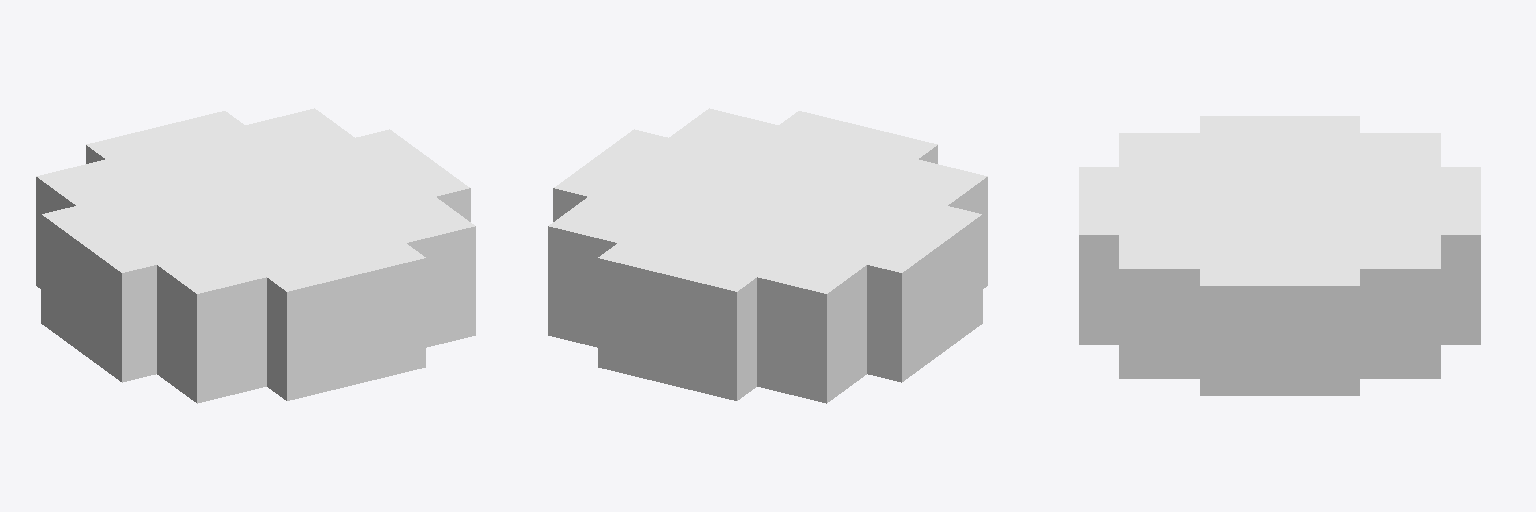
The model's file is treeTrunk.obj.
3 views of the same model, side by side, from view 1: azimuth 30°, elevation 25°; view 2: azimuth 150°, elevation 25°; view 3: azimuth 270°, elevation 25° (orthographic).
Size of the model in its own units: 10 by 3 by 10.